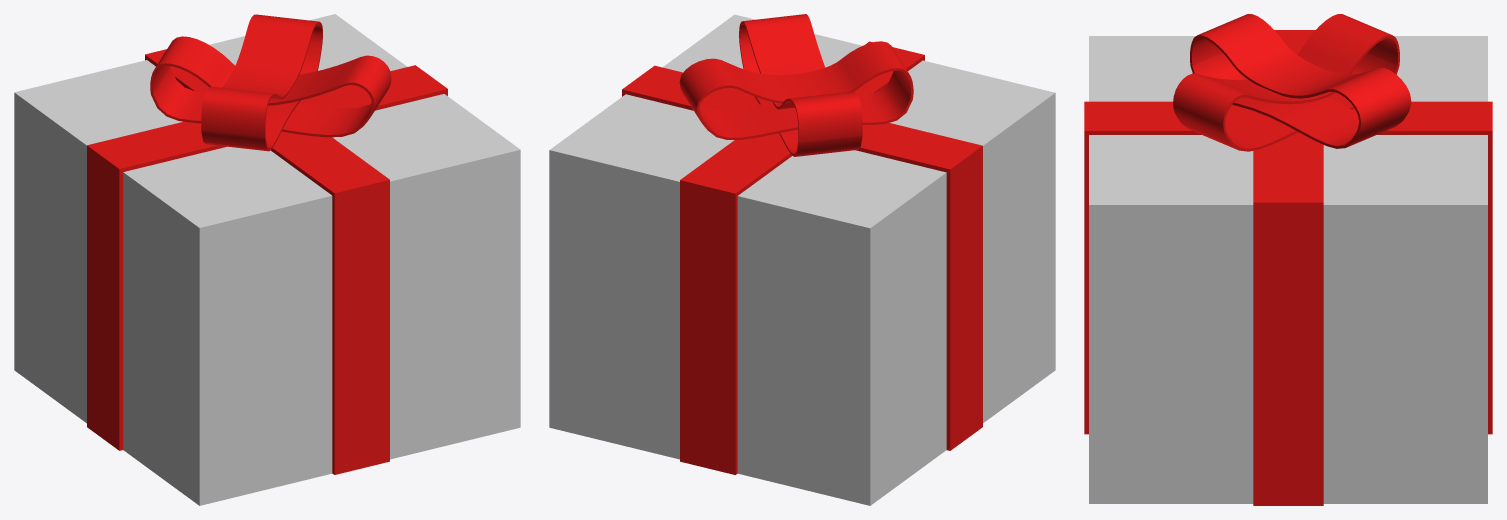
Rendered from Present_low.fbx.
The picture shows the model from 3 angles, left to right: view 1: azimuth 30°, elevation 25°; view 2: azimuth 150°, elevation 25°; view 3: azimuth 270°, elevation 25°; orthographic projection. The views are drawn at different scales.
Visible parts, largest first — view 1: Box001; view 2: Box001; view 3: Box001.
Part boxes in pixels (left/top/right/bottom): Box001: left=14, top=14, right=520, bottom=505; Box001: left=549, top=14, right=1055, bottom=505; Box001: left=1084, top=14, right=1492, bottom=505.
Bounding box in the file's own units: 102 × 101 × 102.
